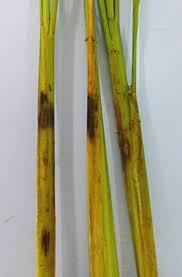Stem Rot: (114, 79, 145, 191), (86, 72, 105, 207), (36, 178, 57, 277), (37, 55, 57, 154), (37, 199, 53, 277)
